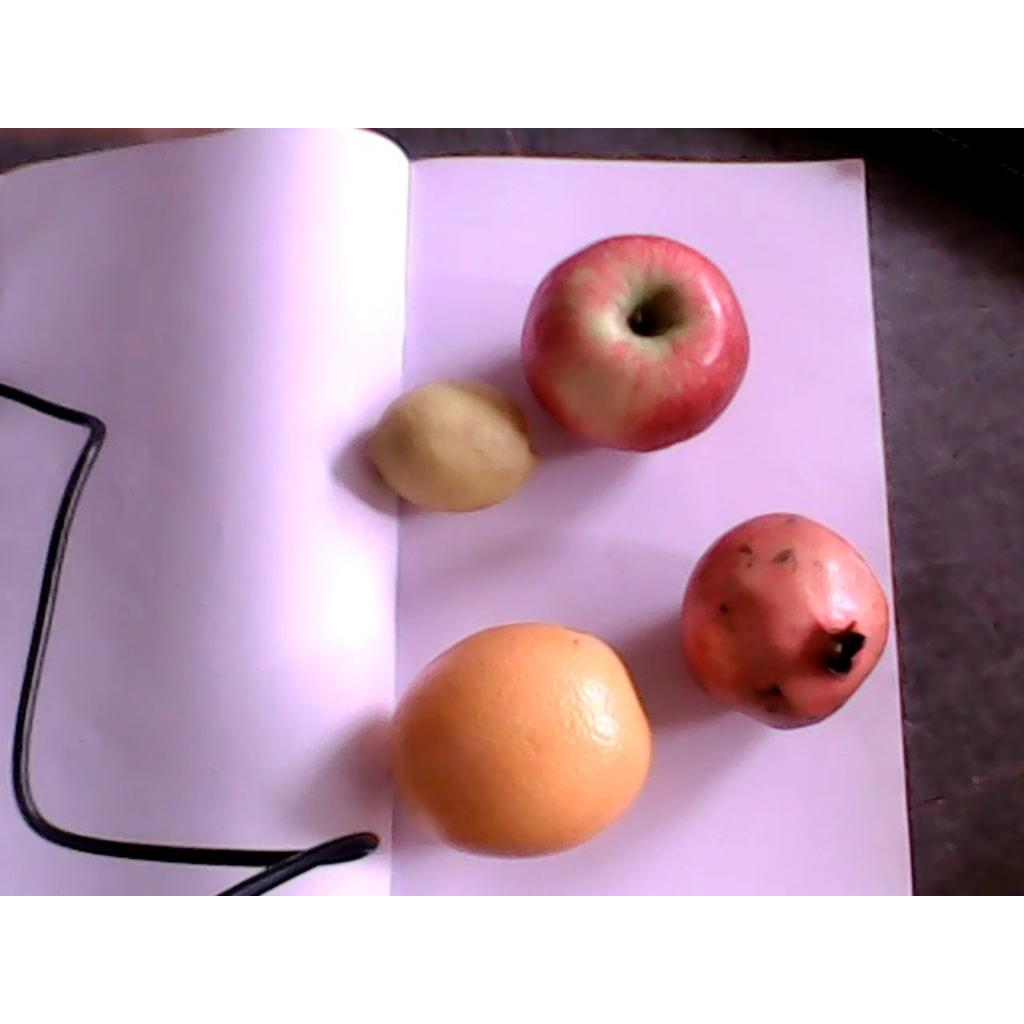apple: (519, 234, 750, 452)
lemon: (358, 376, 540, 513)
orange: (383, 622, 652, 858)
pomegranate: (678, 509, 892, 728)
